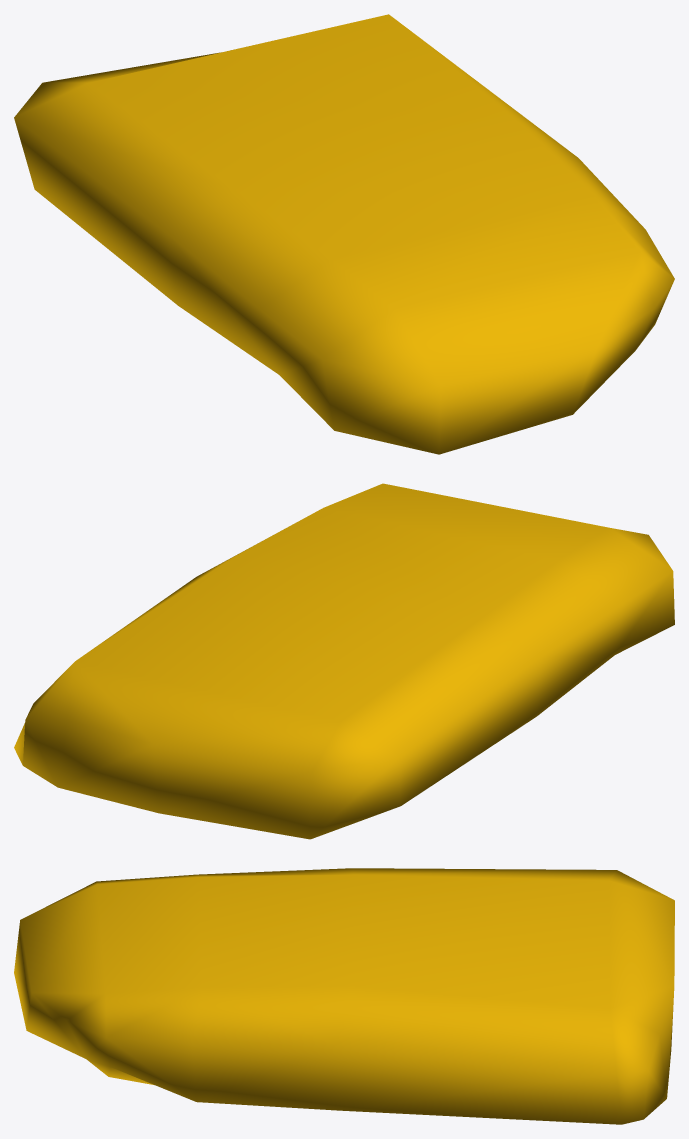
File: Stone_Tile_B_02_Lod0.fbx
3 renders of one model, top to bottom at view 1: azimuth 30°, elevation 25°; view 2: azimuth 150°, elevation 25°; view 3: azimuth 270°, elevation 25°, orthographic. The views are drawn at different scales.
Visible parts, largest first — view 1: Stone_Tile_B_02_Lod0; view 2: Stone_Tile_B_02_Lod0; view 3: Stone_Tile_B_02_Lod0.
Boxes of the visible parts, bbox=[...] form: Stone_Tile_B_02_Lod0: bbox=[14, 14, 674, 454]; Stone_Tile_B_02_Lod0: bbox=[14, 483, 674, 839]; Stone_Tile_B_02_Lod0: bbox=[14, 868, 674, 1124].
Bounding box in the file's own units: 152 × 47.42 × 236.
